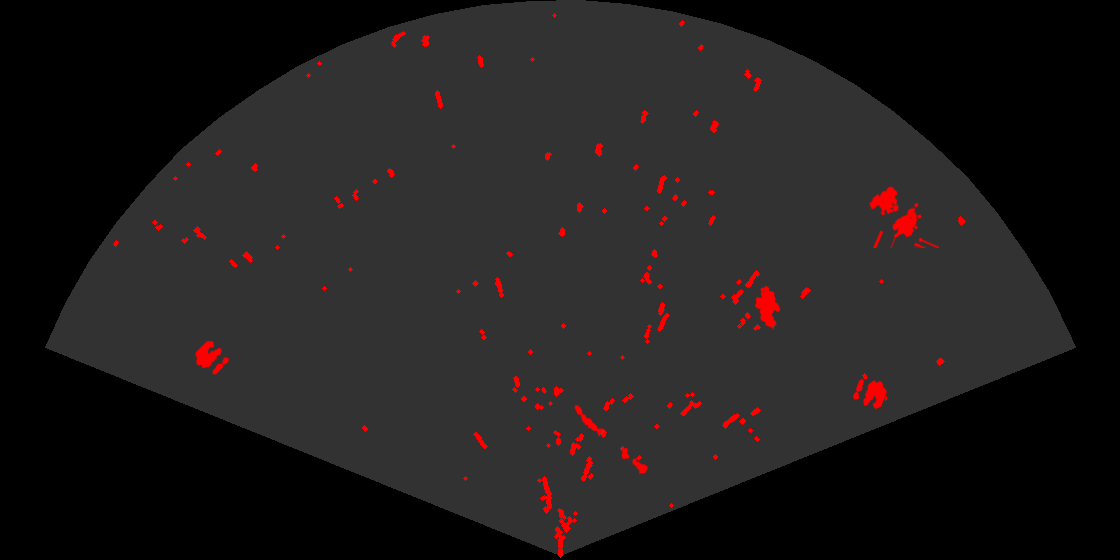AUV: (753, 284, 782, 331)
ball: (194, 339, 231, 376), (851, 377, 889, 411)
cage: (868, 185, 939, 248)
chain: (573, 403, 650, 476)
